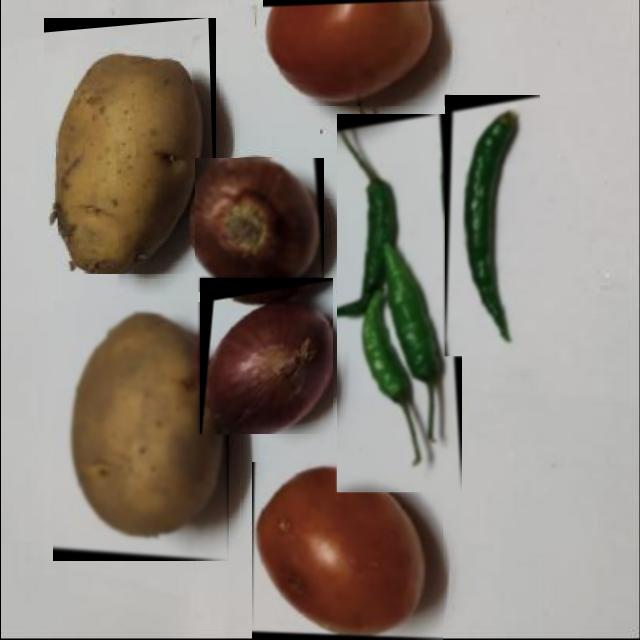Pepper: (336, 114, 461, 492), (444, 95, 539, 356)
onion: (199, 278, 332, 434), (194, 158, 323, 292)
potato: (52, 302, 228, 561), (43, 18, 215, 274)
tomato: (251, 462, 442, 640), (262, 0, 448, 106)
